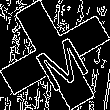M_NW: (22, 22, 88, 88)
